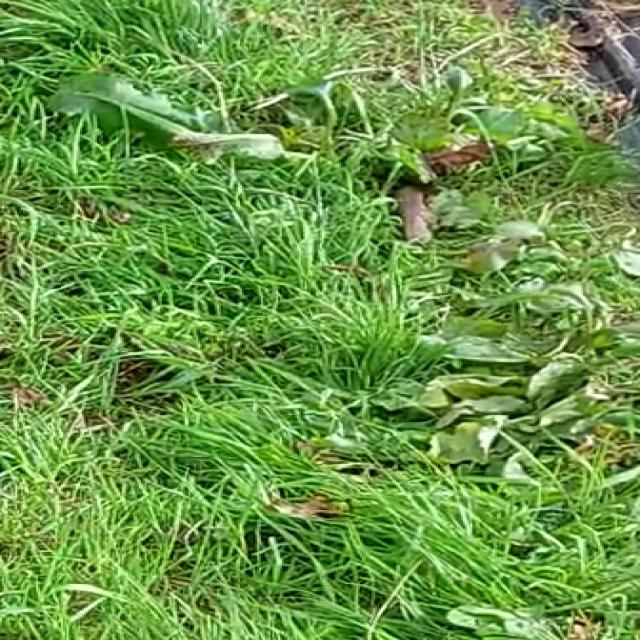organic waste: (305, 262, 640, 508), (72, 32, 510, 201)
